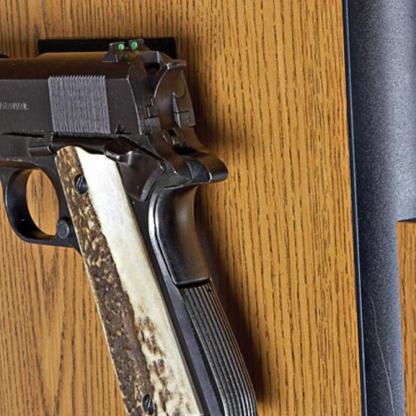gun: (0, 25, 266, 416)
